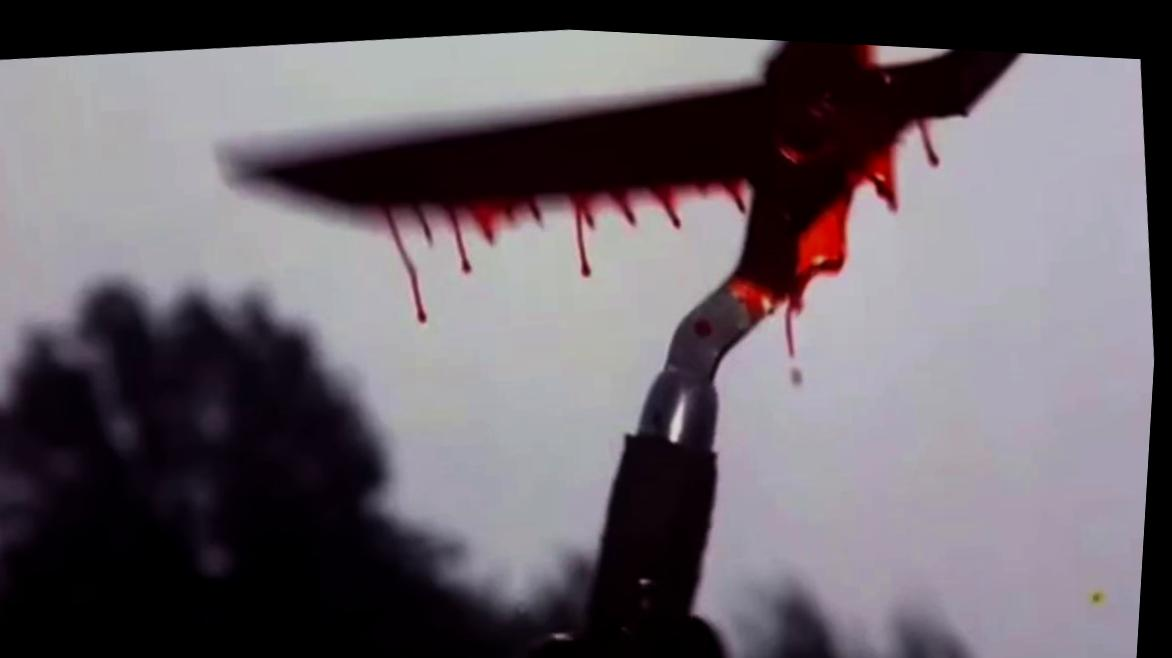Fire: (234, 32, 1021, 442)
